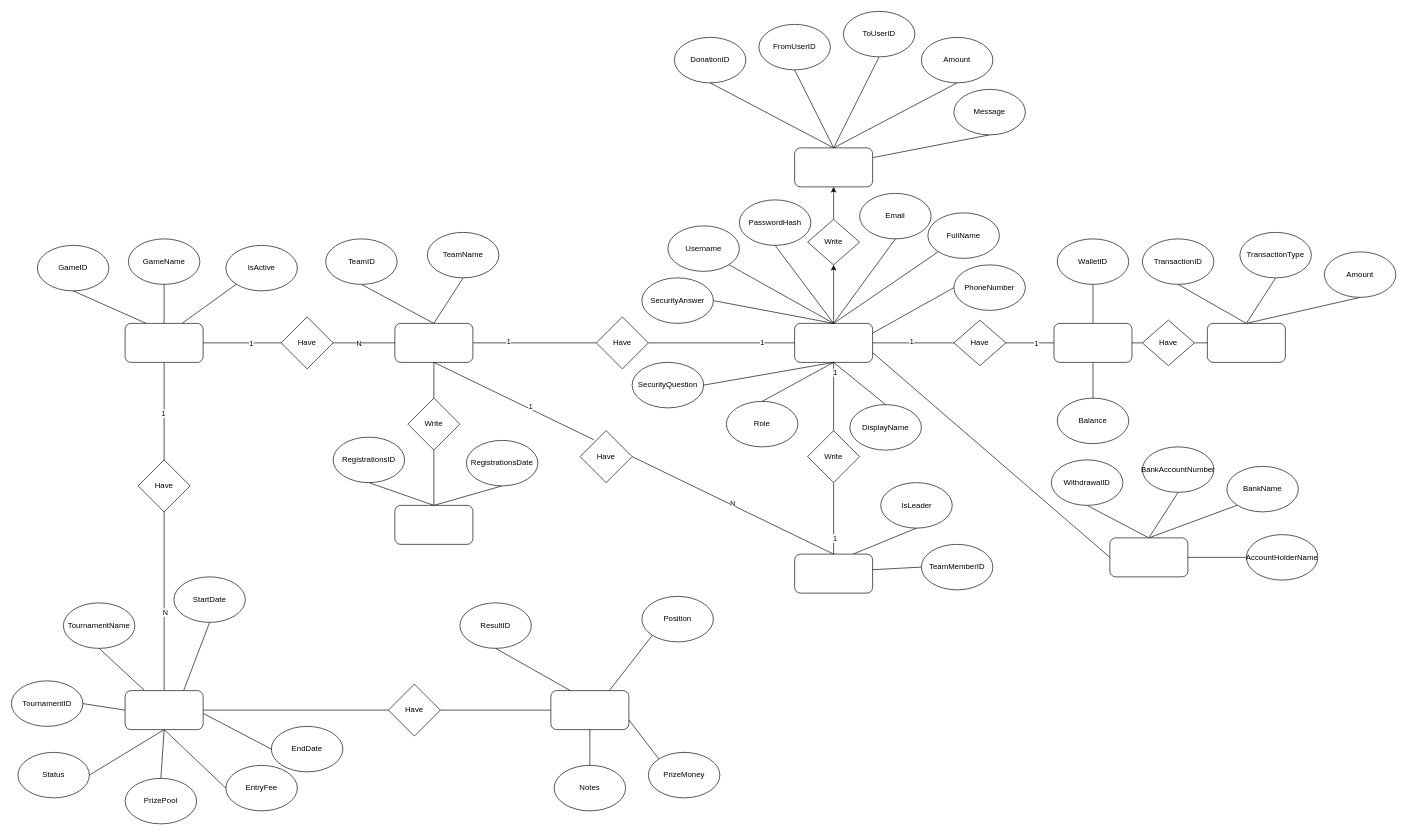
The diagram is 1407 pixels wide and 835 high, and some of its shapes have lost their labels. The shapes that lost their labels are listed below. From the top down, each one's centre as x and y in pixels, then its label:
pixel 833 167: Donations
pixel 163 342: Games
pixel 433 342: Teams
pixel 833 342: Users
pixel 1092 342: Wallets
pixel 1246 342: WalletTransactions
pixel 433 524: Registrations
pixel 833 573: TeamMembers
pixel 1148 557: Withdrawals
pixel 163 710: Tournaments
pixel 589 710: TournamentResults
